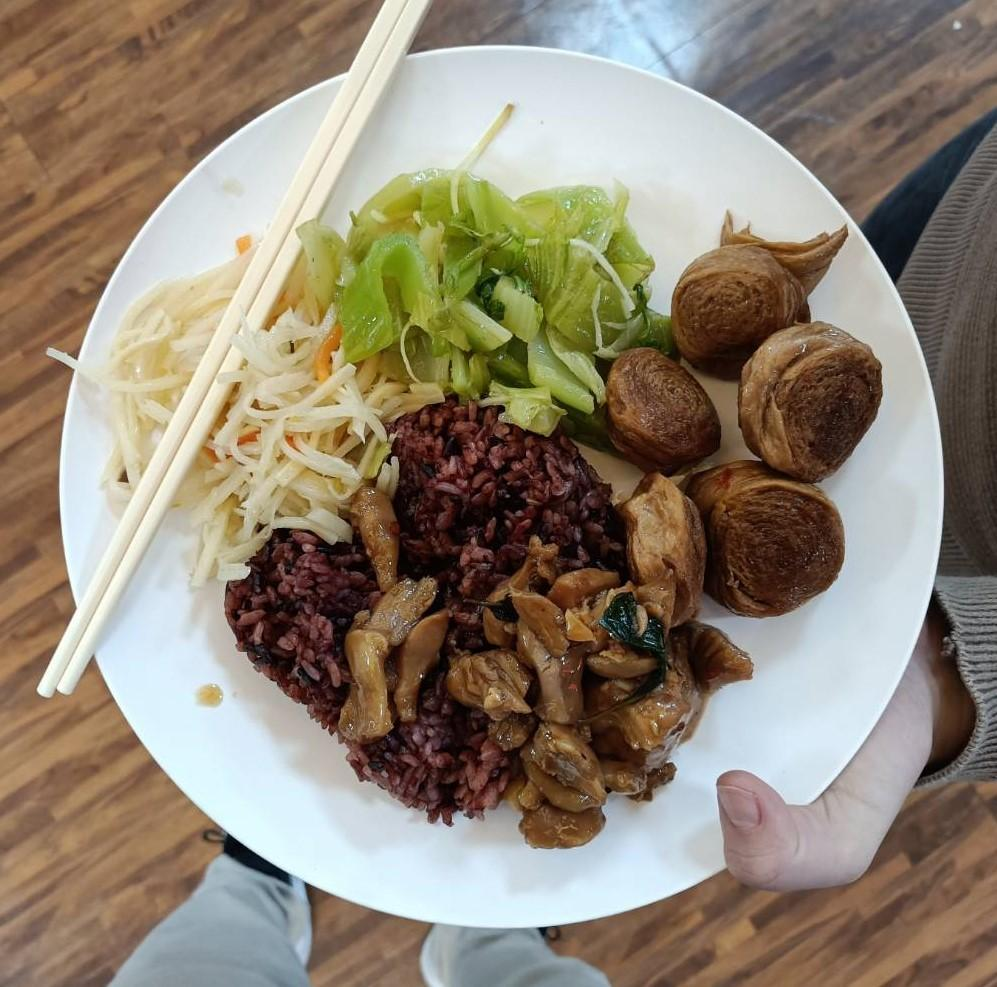big fried chicken leg: (48, 26, 959, 934)
braised fish: (227, 404, 635, 829)
braised fish fillet: (606, 216, 880, 616), (90, 250, 357, 558), (342, 172, 650, 434)
braised pork: (342, 544, 763, 849)
